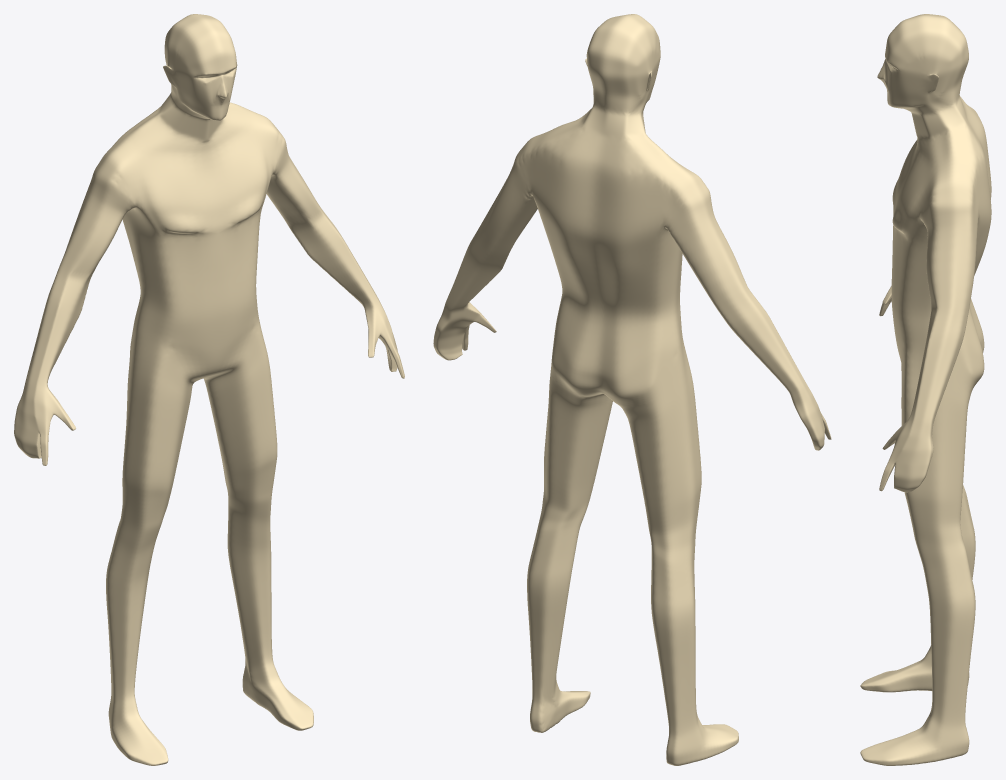
Rendered from body-smooth.glb.
3 views of the same model, side by side, from view 1: azimuth 30°, elevation 25°; view 2: azimuth 150°, elevation 25°; view 3: azimuth 270°, elevation 25° (orthographic).
Parts seen in each view (by area): view 1: Body; view 2: Body; view 3: Body.
Boxes of the visible parts, bbox=[...] form: Body: bbox=[14, 14, 404, 765]; Body: bbox=[433, 14, 831, 765]; Body: bbox=[860, 14, 991, 765].
Bounding box in the file's own units: 1.95 × 3.49 × 0.5868.
